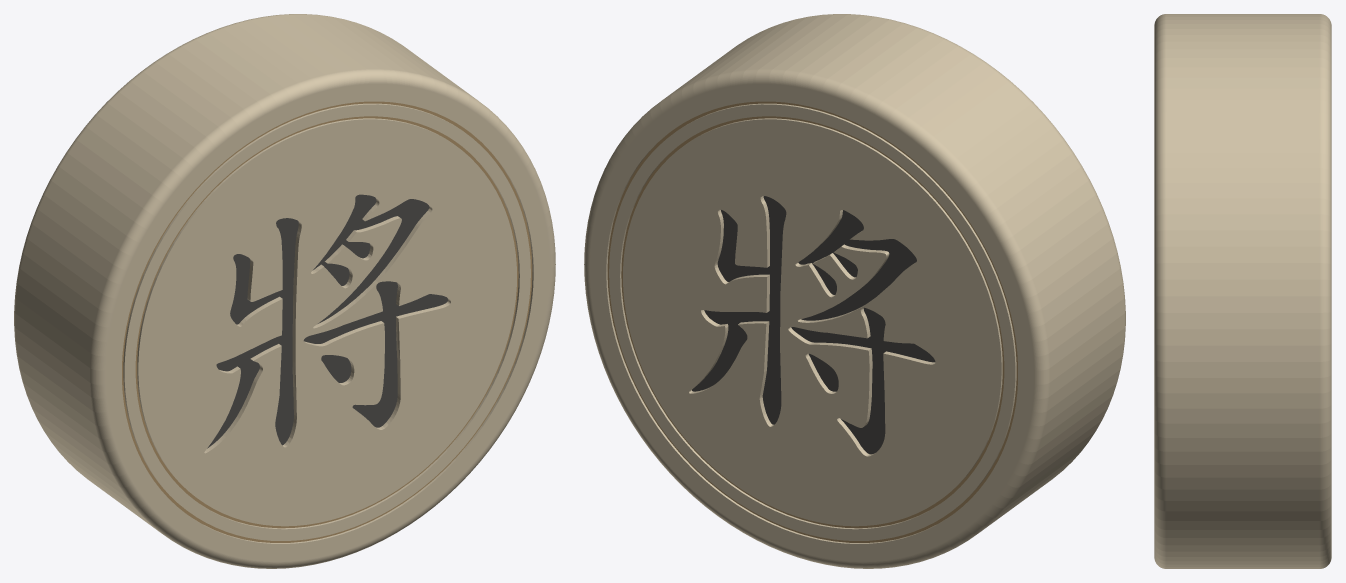
3 renders of one model, left to right at view 1: azimuth 30°, elevation 25°; view 2: azimuth 150°, elevation 25°; view 3: azimuth 270°, elevation 25°, orthographic. The views are drawn at different scales.
Parts seen in each view (by area): view 1: wood, engraved_letters, engraved_border; view 2: wood, engraved_letters, engraved_border; view 3: wood.
Part boxes in pixels (bbox=[...]): wood: bbox=[14, 14, 555, 568]; engraved_letters: bbox=[207, 194, 447, 448]; engraved_border: bbox=[122, 101, 532, 542]; wood: bbox=[584, 14, 1125, 568]; engraved_letters: bbox=[692, 196, 935, 454]; engraved_border: bbox=[607, 101, 1017, 542]; wood: bbox=[1154, 14, 1331, 568].
Size of the model in its own units: 0.047 by 0.047 by 0.015.
